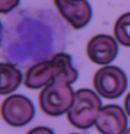N: (0, 2, 70, 68)
